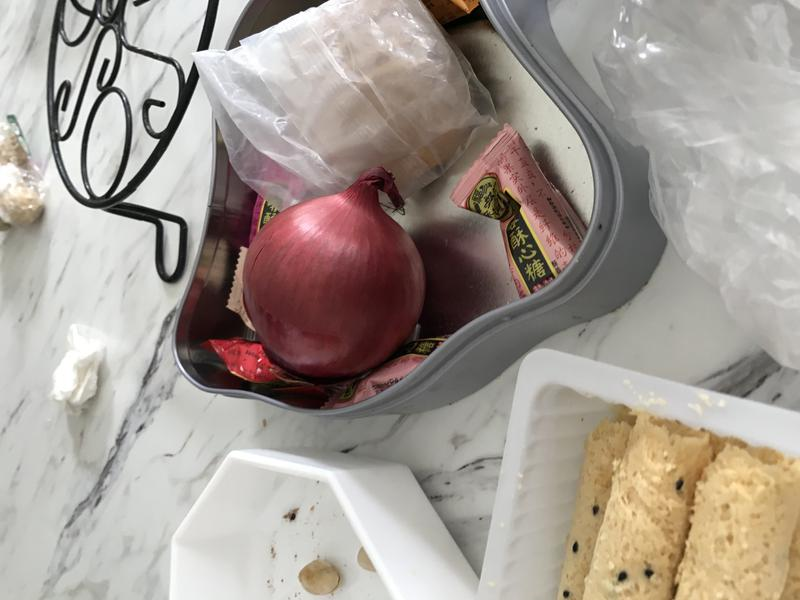purple_onion: (223, 162, 438, 391)
